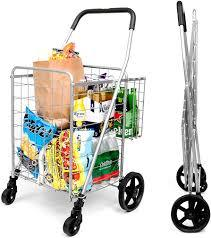with_basket: (1, 7, 151, 227)
